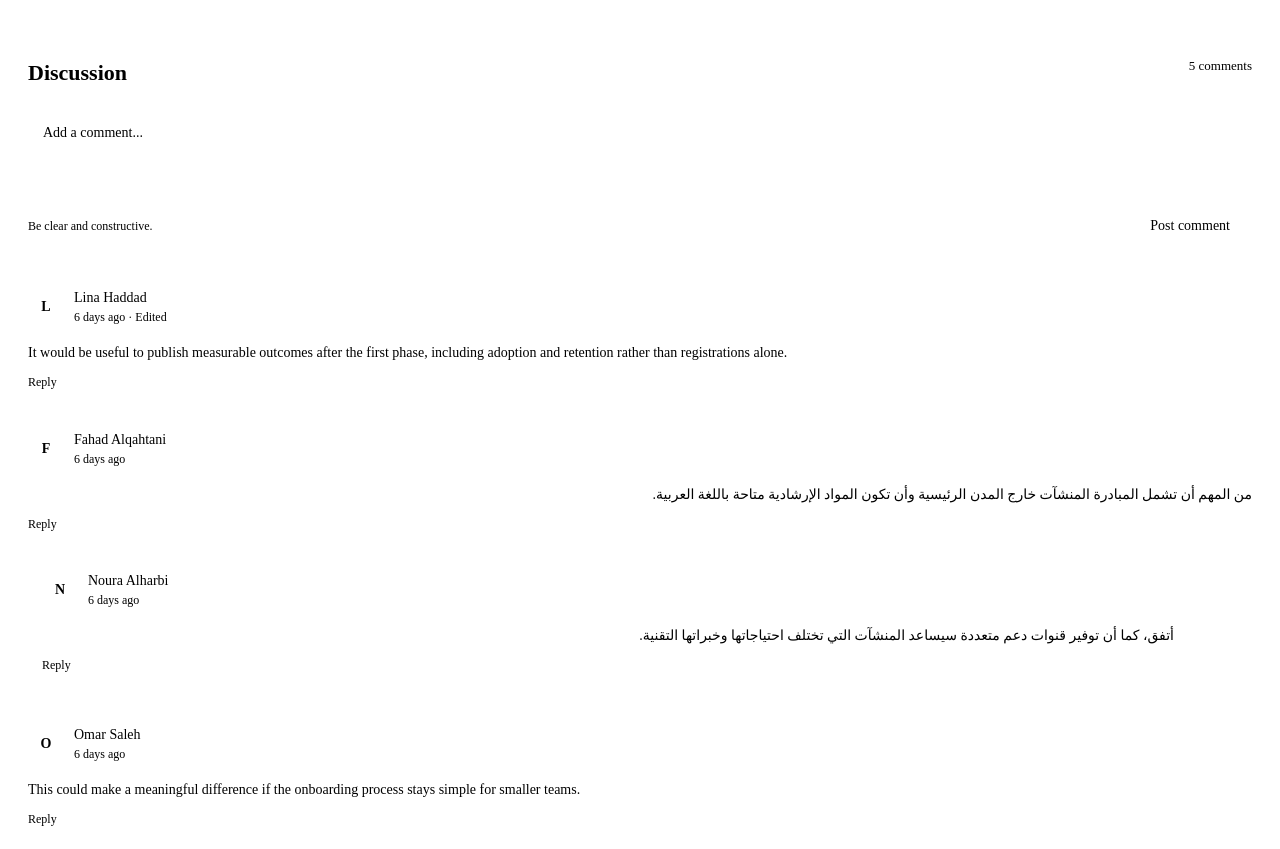
Test case: <Discussion> (web) › lets the user edit the text after a failure before retrying (S-5e)
Type "Draft one" into the text box labelled "Add a comment" at (640, 151), box [28,109,1252,193]
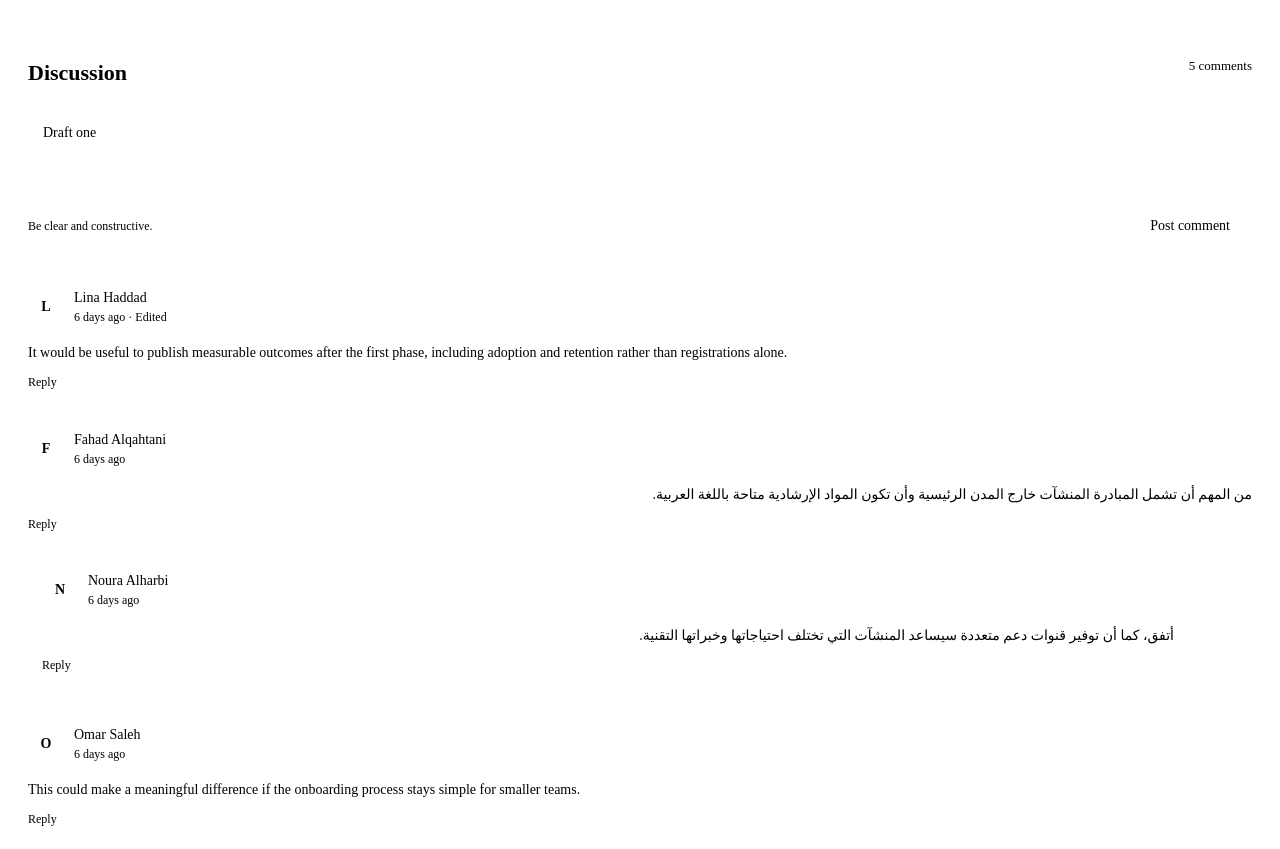
Click the button "Post comment" at (1190, 226), box [1128,204,1252,248]
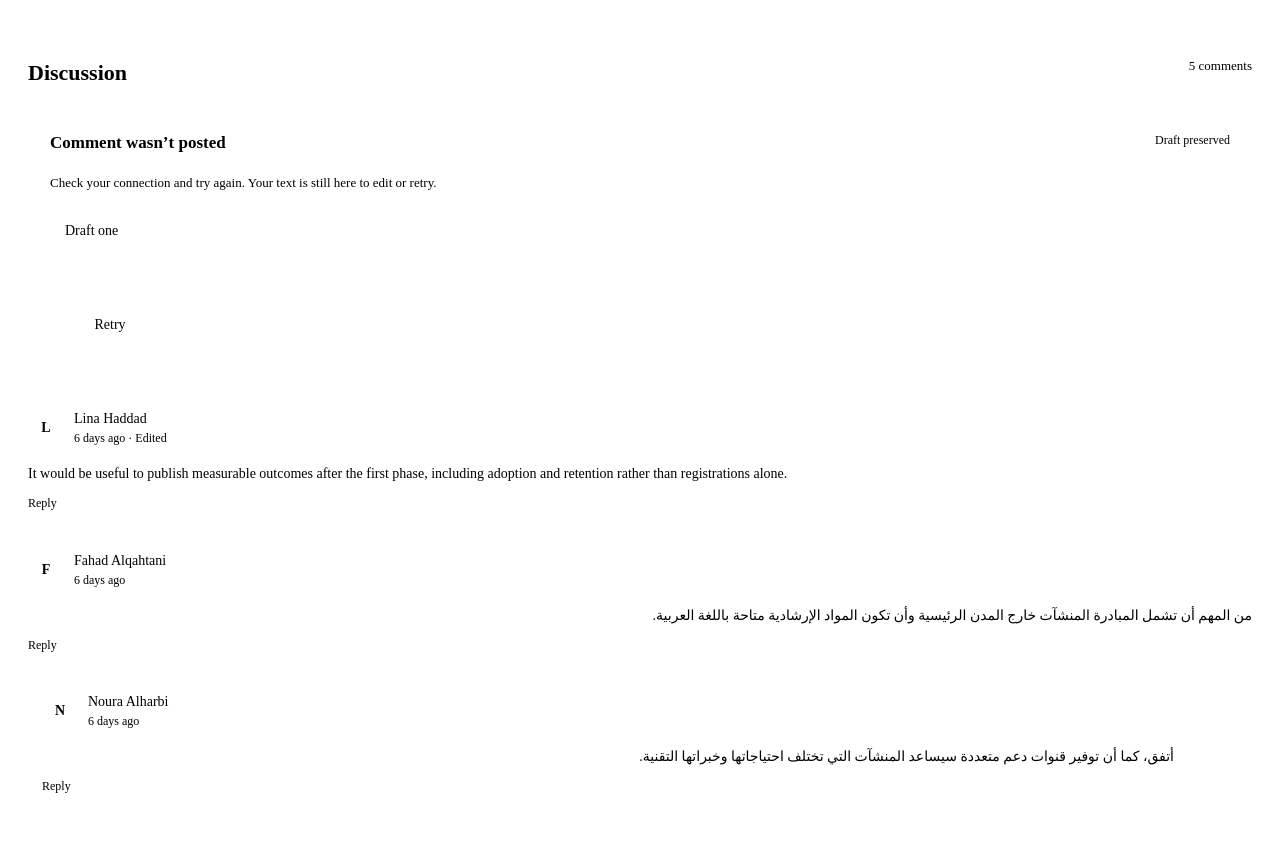
Expected: the message is shown, [50,131,1230,207]
Replace the text in the text box named "Add a comment" with "Draft two" at (640, 249), box [50,207,1230,291]
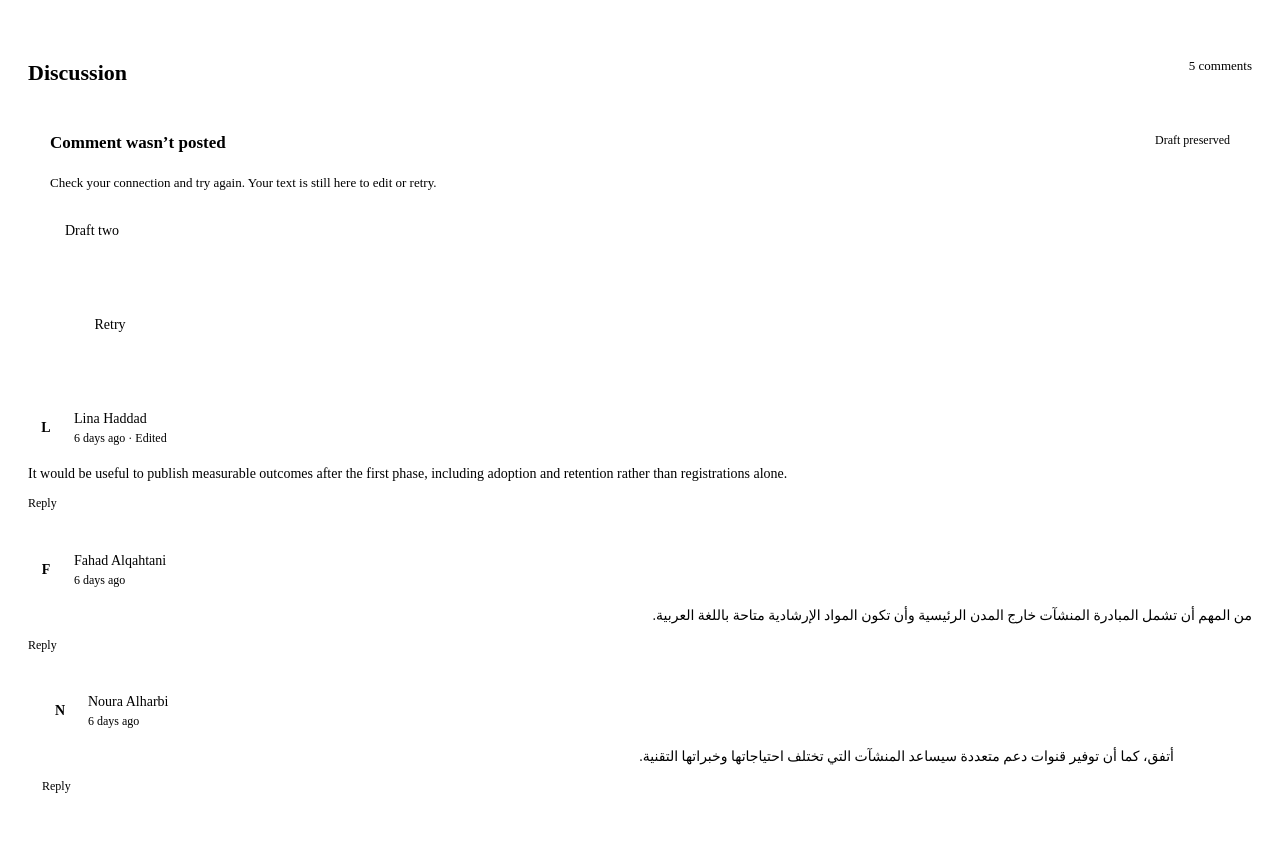
Click the button "Retry" at (110, 325), box [50,303,170,347]
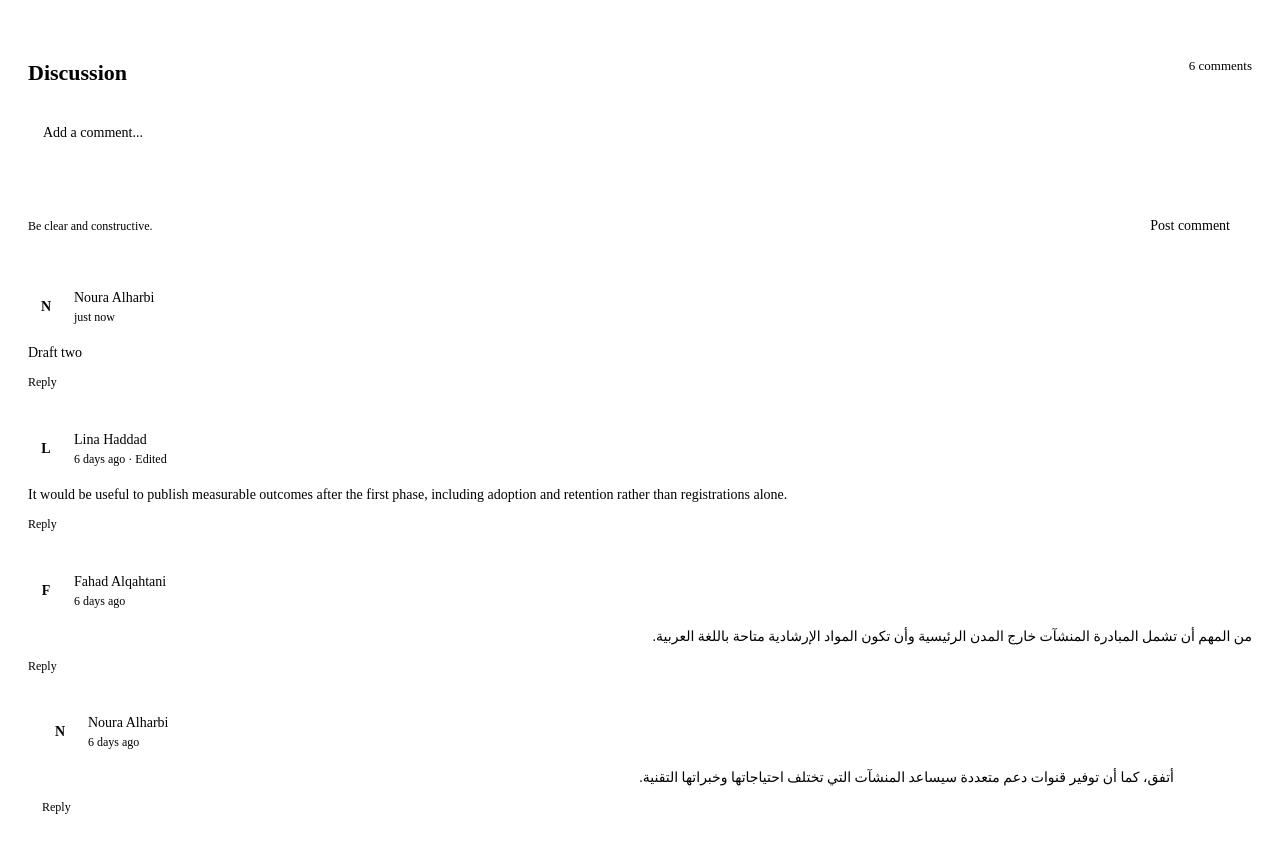
Expected: the text "Draft one" is not shown
Expected: the text "Draft two" is shown, [28,345,82,360]
